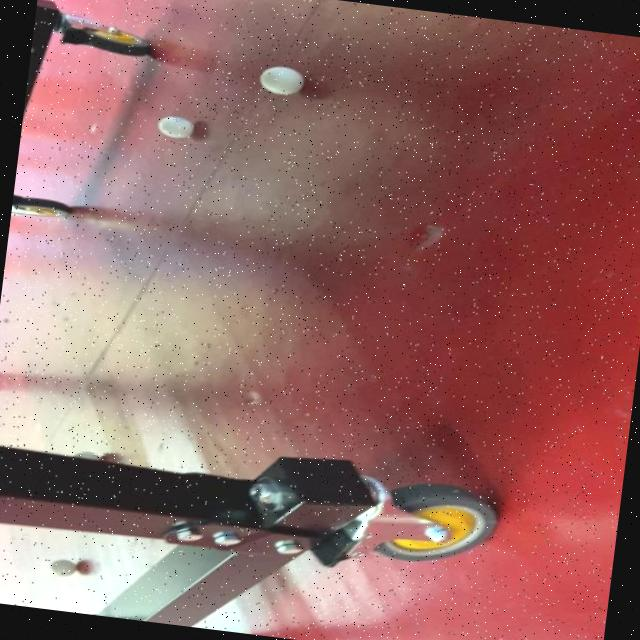ping-pong-ball: (256, 64, 310, 98), (154, 112, 199, 142), (45, 556, 83, 580)
